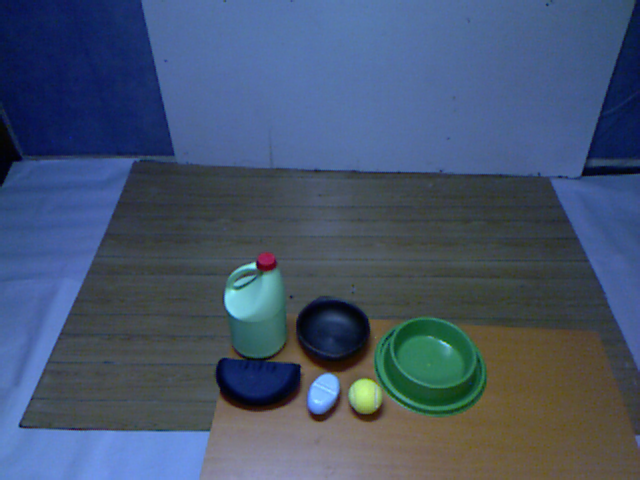cloroplano: (218, 251, 292, 362)
estuche: (210, 353, 306, 416)
greda: (290, 290, 373, 372)
jabon: (302, 368, 344, 423)
pelota: (340, 371, 388, 422)
platoperro: (368, 312, 491, 419)
